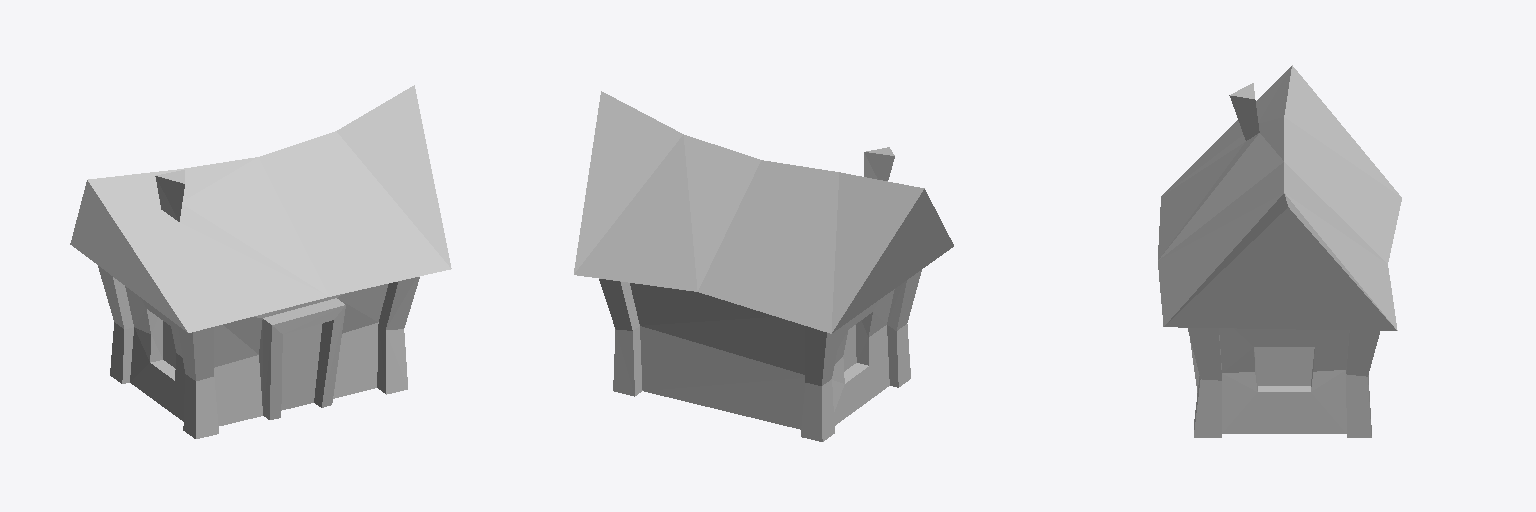
The model's file is house.obj.
3 renders of one model, left to right at view 1: azimuth 30°, elevation 25°; view 2: azimuth 150°, elevation 25°; view 3: azimuth 270°, elevation 25°, orthographic.
Visible parts, largest first — view 1: house_Cube.001; view 2: house_Cube.001; view 3: house_Cube.001.
Boxes of the visible parts, x1,y1,x2,y2 form: house_Cube.001: [70, 85, 451, 438]; house_Cube.001: [574, 91, 953, 441]; house_Cube.001: [1158, 65, 1401, 437].
Size of the model in its own units: 9.57 by 7.21 by 6.22.